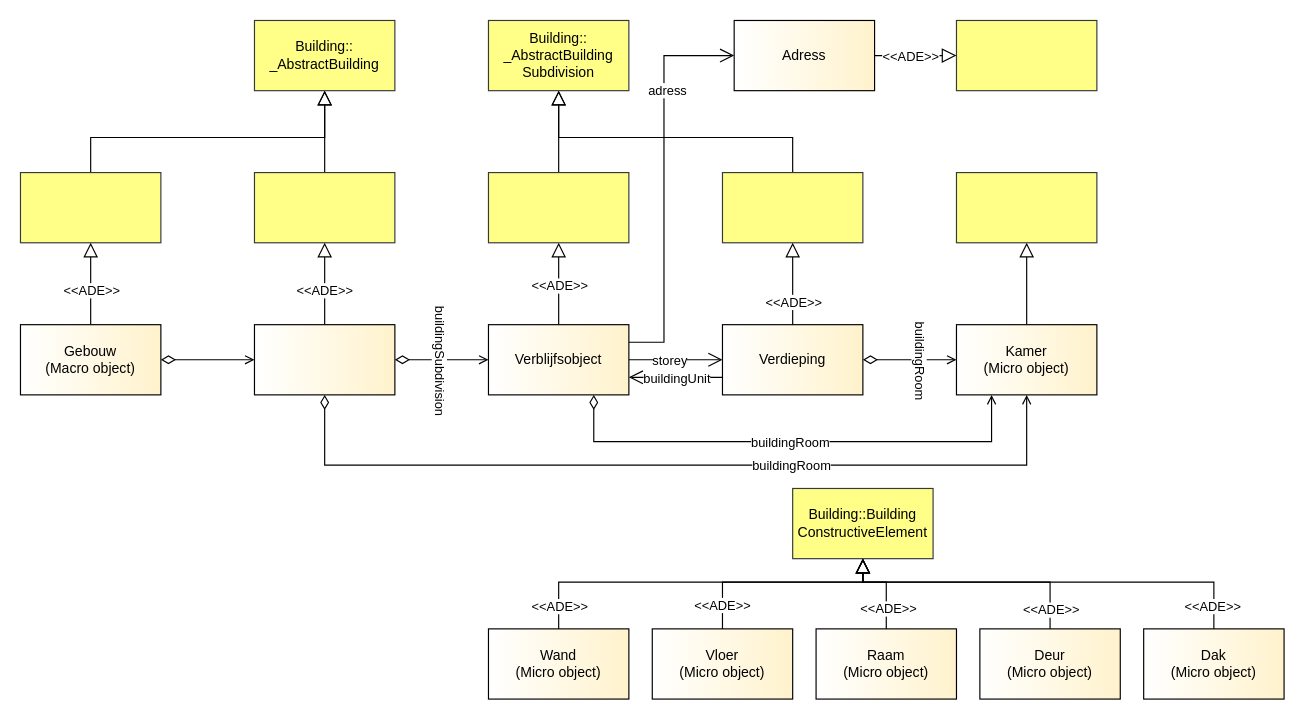
Some shapes in this 1305 by 720 pixel diagram are drawn without their labels. Here are the shapes that lost their labels. From the top down, the centre of each, then its label:
At [1026,55]: "Core::Adress".
At [90,207]: "Building::Building".
At [324,207]: "Building::BuildingPart".
At [558,207]: "Building::BuildingUnit".
At [792,207]: "Building::Storey".
At [1026,207]: "Building:: BuildingRoom".
At [324,359]: "Pand".
